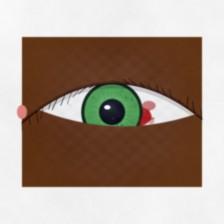hemorrhage_spot: (96, 90, 160, 142)
